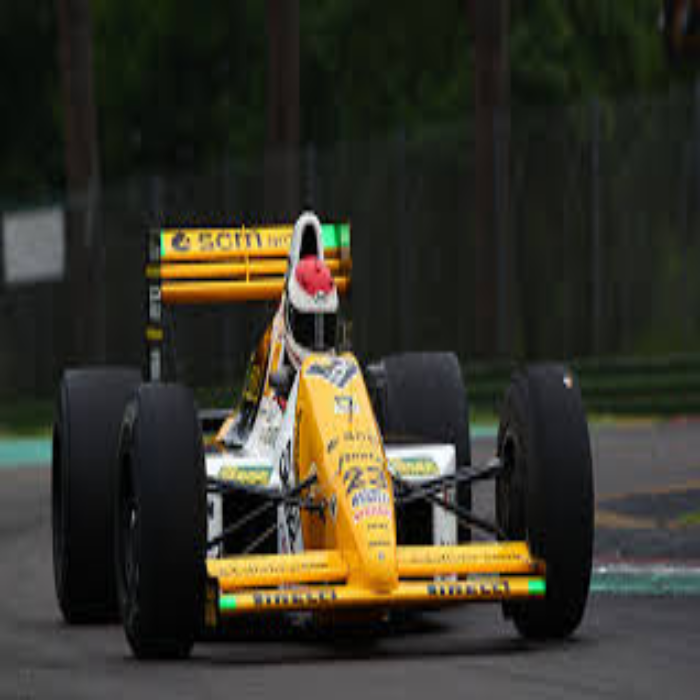f1_car: (41, 197, 623, 671)
